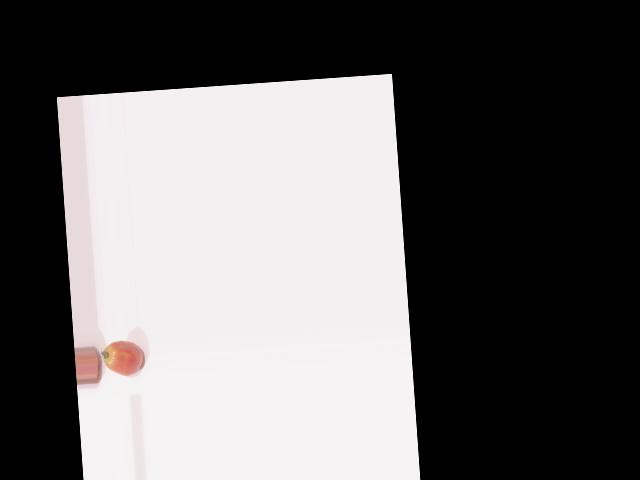tomato: (102, 339, 143, 377)
